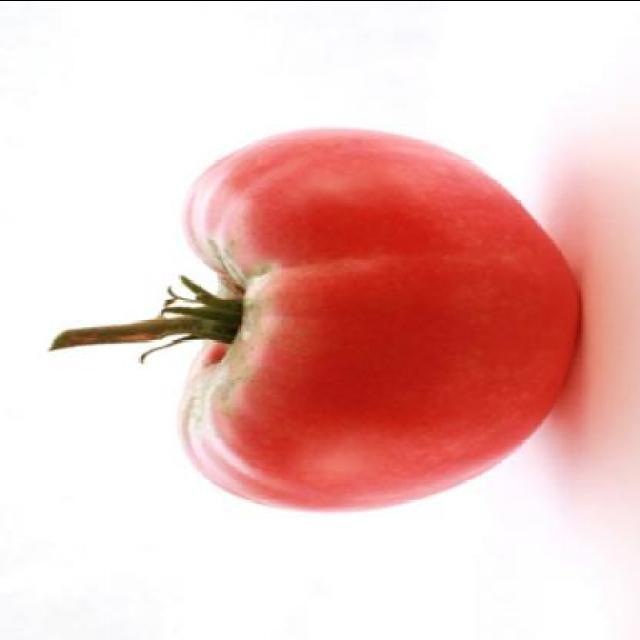Tomato: (45, 130, 577, 514)
